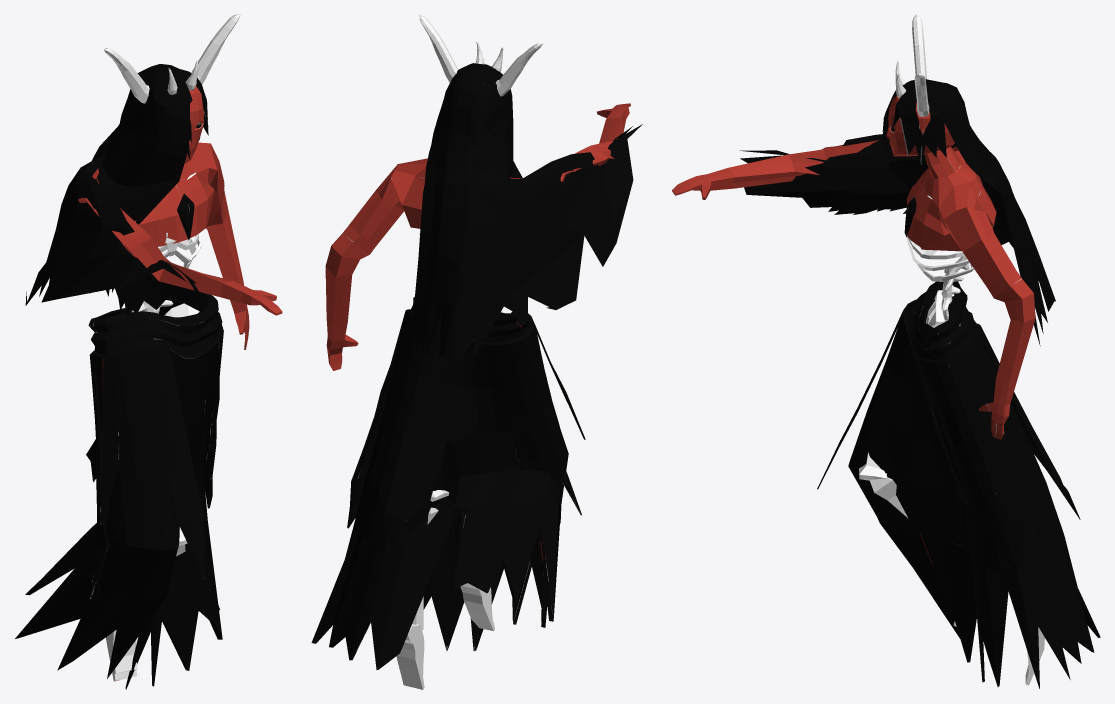
File: cursedqueenattack_19.fbx
The picture shows the model from 3 angles, left to right: view 1: azimuth 30°, elevation 25°; view 2: azimuth 150°, elevation 25°; view 3: azimuth 270°, elevation 25°; orthographic projection. The views are drawn at different scales.
Parts seen in each view (by area): view 1: cursed_queen; view 2: cursed_queen; view 3: cursed_queen.
Part boxes in pixels (x1,y1,x2,y2): cursed_queen: [15, 14, 282, 689]; cursed_queen: [311, 14, 642, 689]; cursed_queen: [672, 14, 1100, 688].
Bounding box in the file's own units: 107 × 275 × 170.
